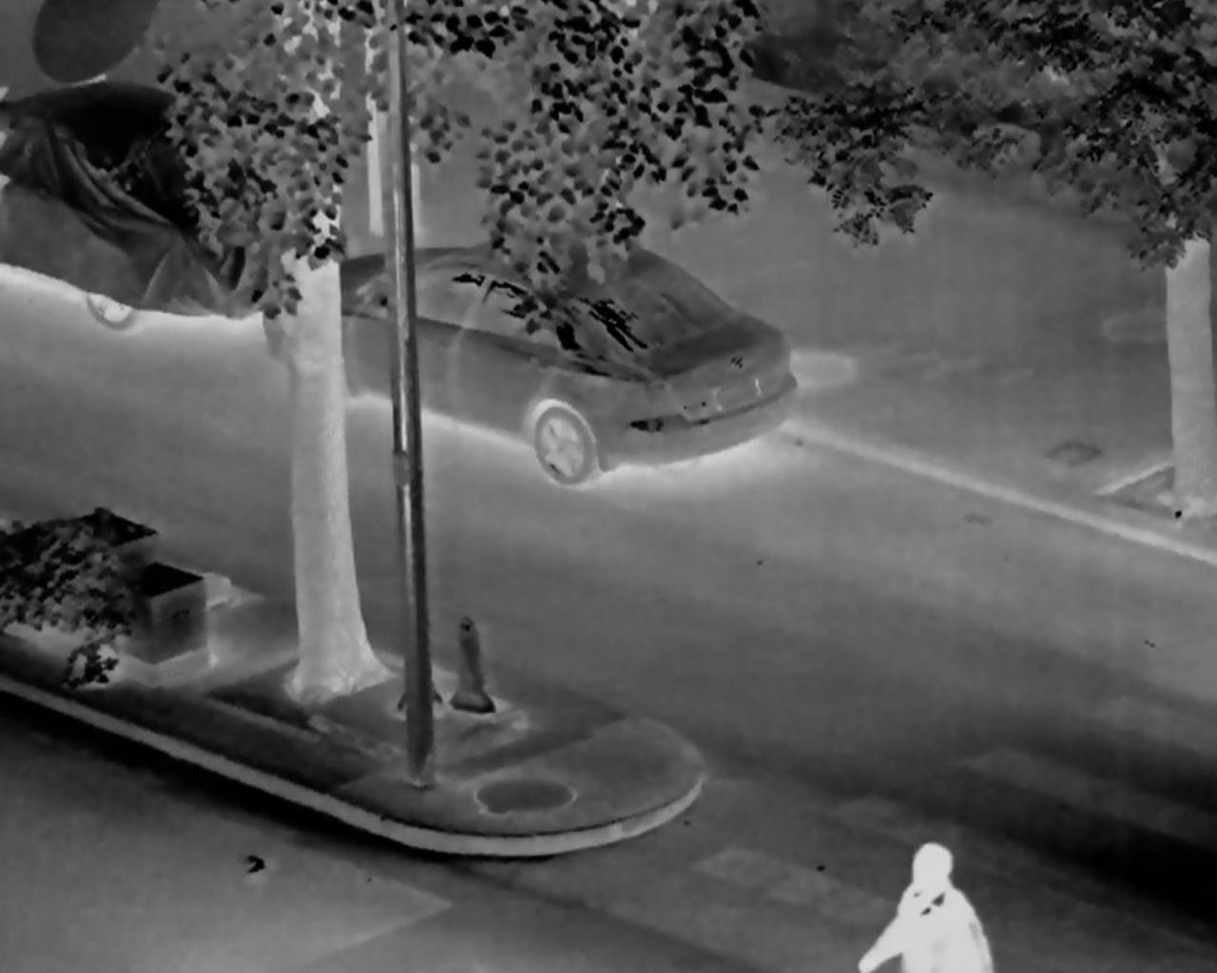person: (856, 842, 995, 973)
